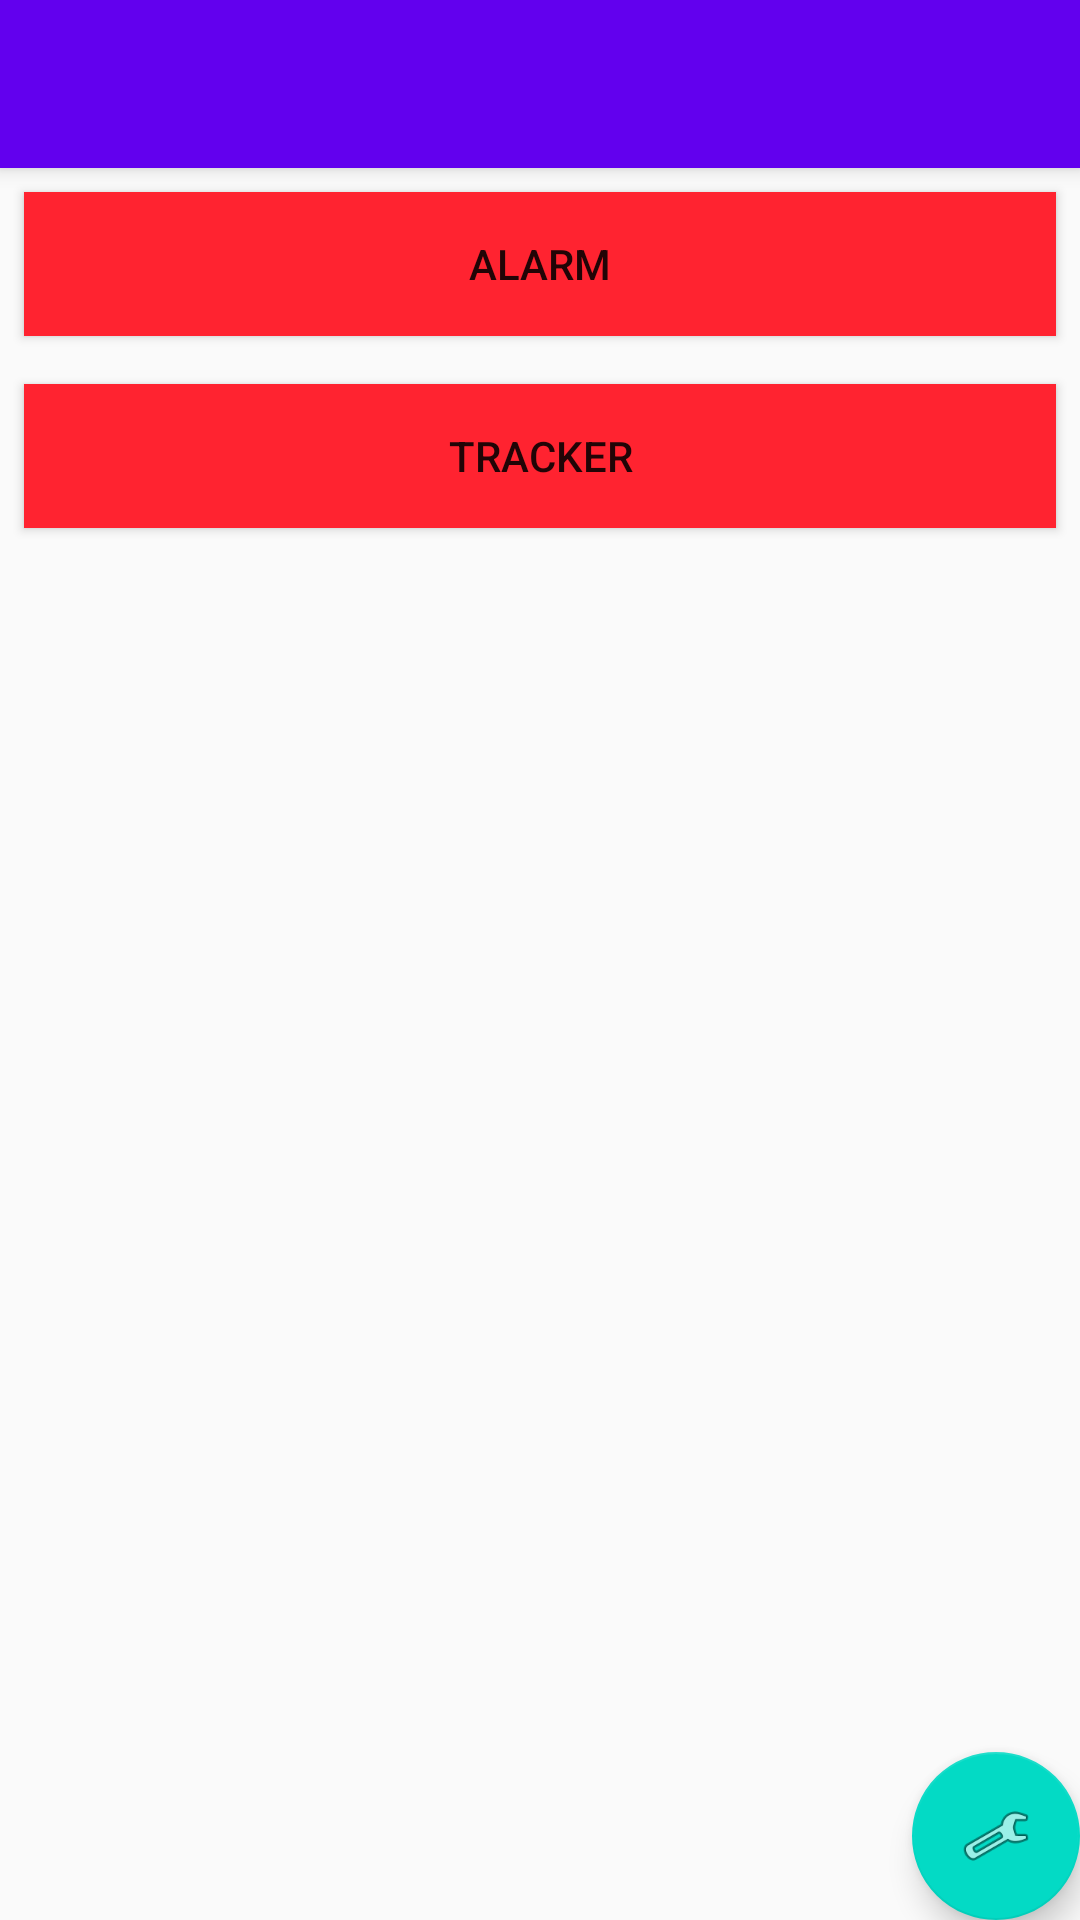

Point at icon controls on the screen. Image size 1080 × 1920, points as (x=x, y=y).
preferences: (x=996, y=1836)
